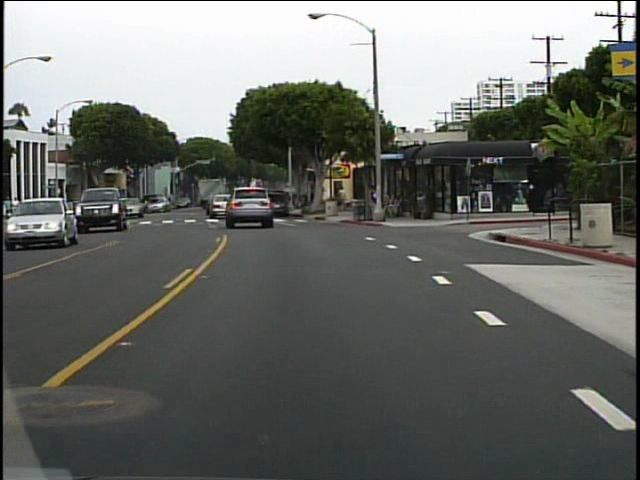person: (363, 186, 380, 220)
